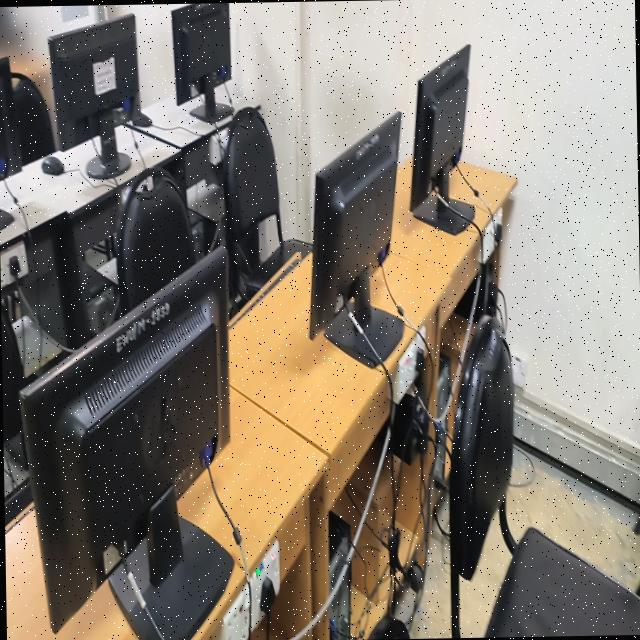Chair: (447, 316, 640, 638), (114, 166, 194, 312), (221, 106, 282, 247), (11, 72, 53, 164), (0, 306, 23, 442)
Cpu: (328, 513, 350, 640), (81, 258, 117, 333), (432, 354, 449, 482), (83, 249, 103, 264)
Monitor: (18, 247, 232, 640), (308, 110, 403, 366), (47, 13, 138, 166), (408, 44, 472, 233), (170, 2, 229, 120), (0, 56, 20, 179)
Mouse: (40, 154, 63, 174), (130, 108, 150, 125)
